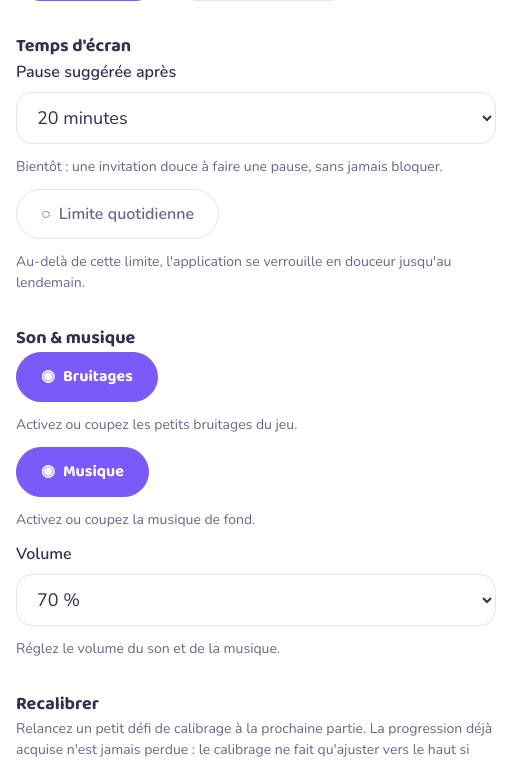
SettingsForm — son/musique/volume (persistance formulaire ; enforcement par le moteur audio 8.4 #257 dans /jouer, pas ici) › aucun effet audio immédiat DEPUIS CE FORMULAIRE (contrairement au thème) : pas d'appel avant la confirmation serveur
(page scrolled)
Click the switch labelled "Bruitages".
click(87, 377)  # box [16,352,158,402]
(page scrolled)
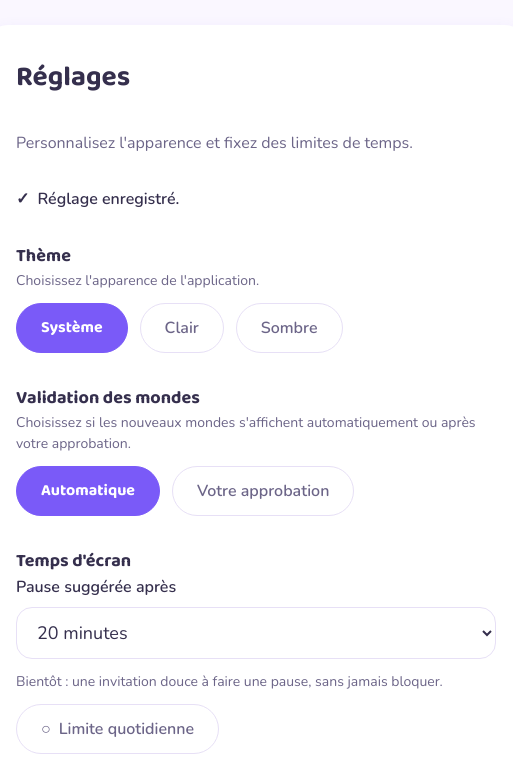
Now the message shows "Réglage enregistré.", box [37,188,179,210]
